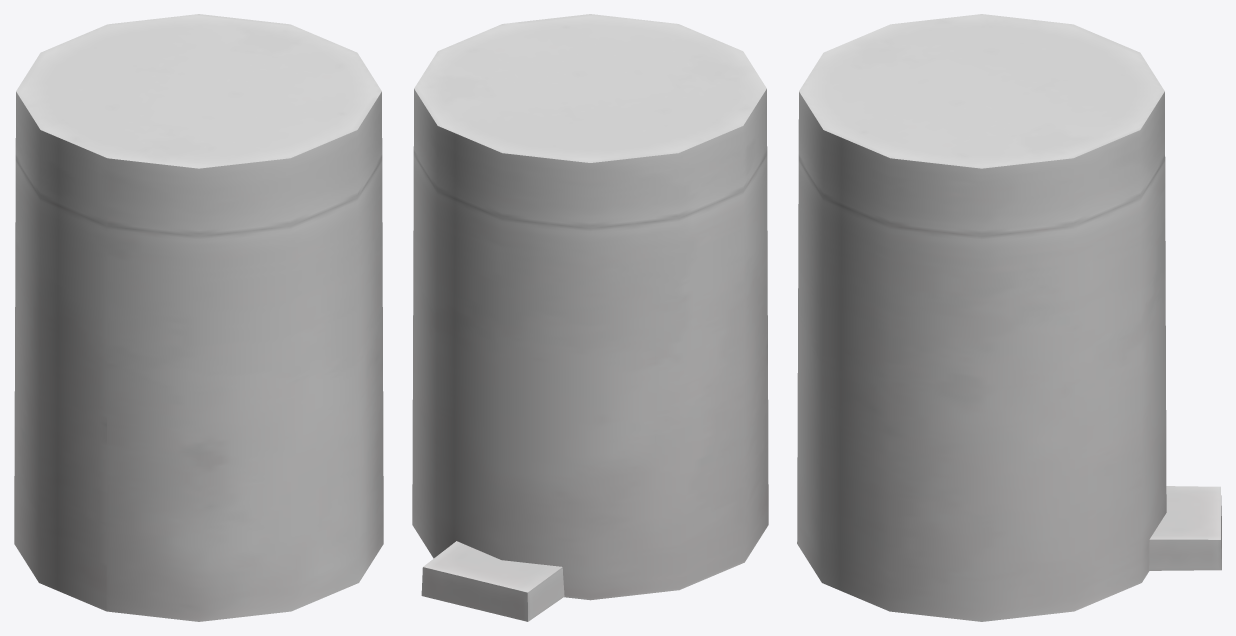
Rendered from Pfb_Indoors_WC__5.fbx.
The picture shows the model from 3 angles, left to right: view 1: azimuth 30°, elevation 25°; view 2: azimuth 150°, elevation 25°; view 3: azimuth 270°, elevation 25°; orthographic projection. The views are drawn at different scales.
Visible parts, largest first — view 1: Mat_Indoors_WC_01; view 2: Mat_Indoors_WC_01; view 3: Mat_Indoors_WC_01.
Boxes of the visible parts, <box> form: Mat_Indoors_WC_01: <box>14,14,383,621</box>; Mat_Indoors_WC_01: <box>412,14,768,621</box>; Mat_Indoors_WC_01: <box>797,14,1221,621</box>.
Bounding box in the file's own units: 0.3581 × 0.484 × 0.4116.
Materials: 1 (1 with a texture image).
